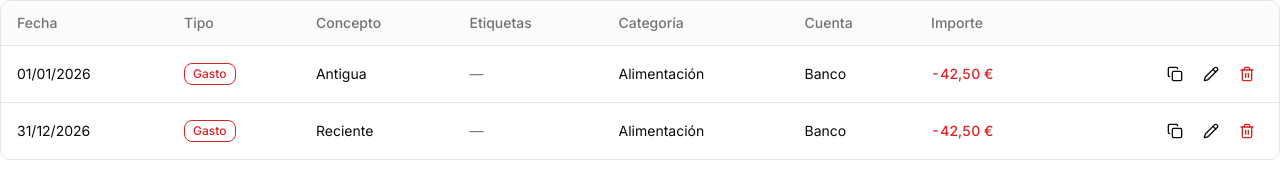
Test case: TransactionTable — ordenación › ordena por fecha ascendente y descendente
Click the text "Fecha". click: point(37, 22)
box: x1=17 y1=14 x2=57 y2=31
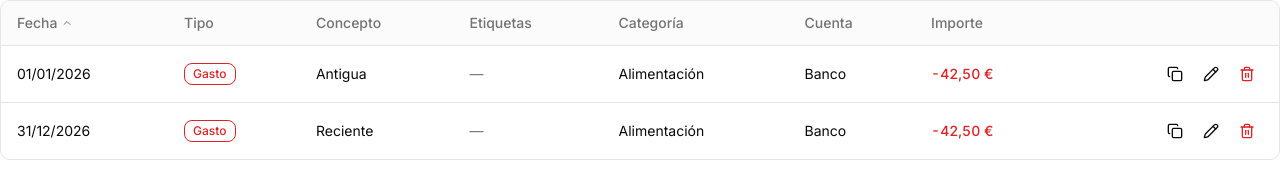
expect the text "Antigua" is shown: met, box x1=316 y1=65 x2=366 y2=82
Click the text "Fecha". click: point(45, 22)
box: x1=17 y1=14 x2=73 y2=31
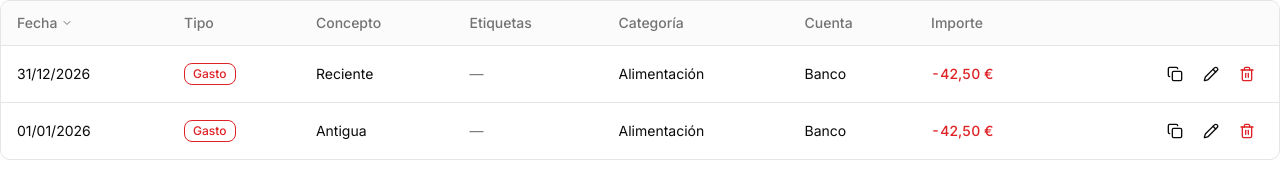
expect the text "Reciente" is shown: met, box x1=316 y1=65 x2=373 y2=82
